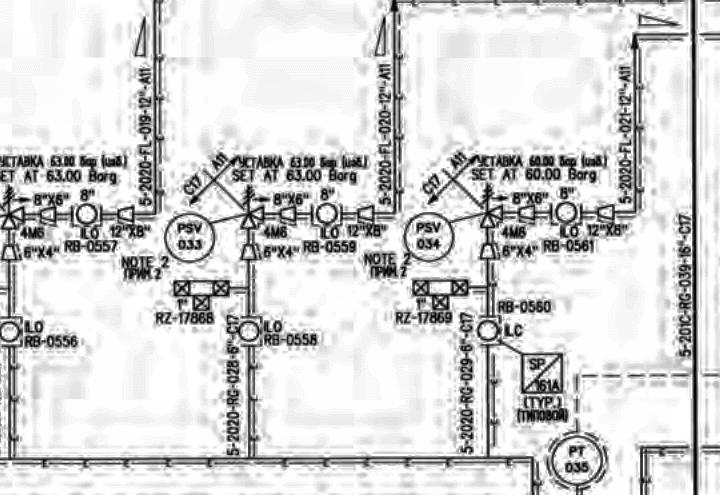2 WAY VALVE: (167, 276, 234, 312), (407, 276, 470, 311)
ANGLE RELIEF VALVE: (237, 181, 269, 237), (477, 176, 505, 234), (0, 188, 27, 233)
CONCENTRIC REDUCER: (36, 201, 59, 229), (475, 240, 500, 265), (354, 204, 379, 228), (595, 200, 618, 225), (0, 242, 22, 267), (115, 202, 137, 226), (241, 240, 261, 266), (278, 203, 299, 224), (517, 204, 540, 222)
FIELD INSTRUMENT: (544, 430, 610, 490), (161, 214, 216, 266), (401, 213, 456, 263), (309, 202, 343, 228), (473, 315, 502, 344), (73, 200, 100, 228), (0, 317, 23, 349), (234, 320, 264, 343), (553, 200, 581, 224)
SPECIAL PIPING ITEM: (515, 349, 569, 400)
